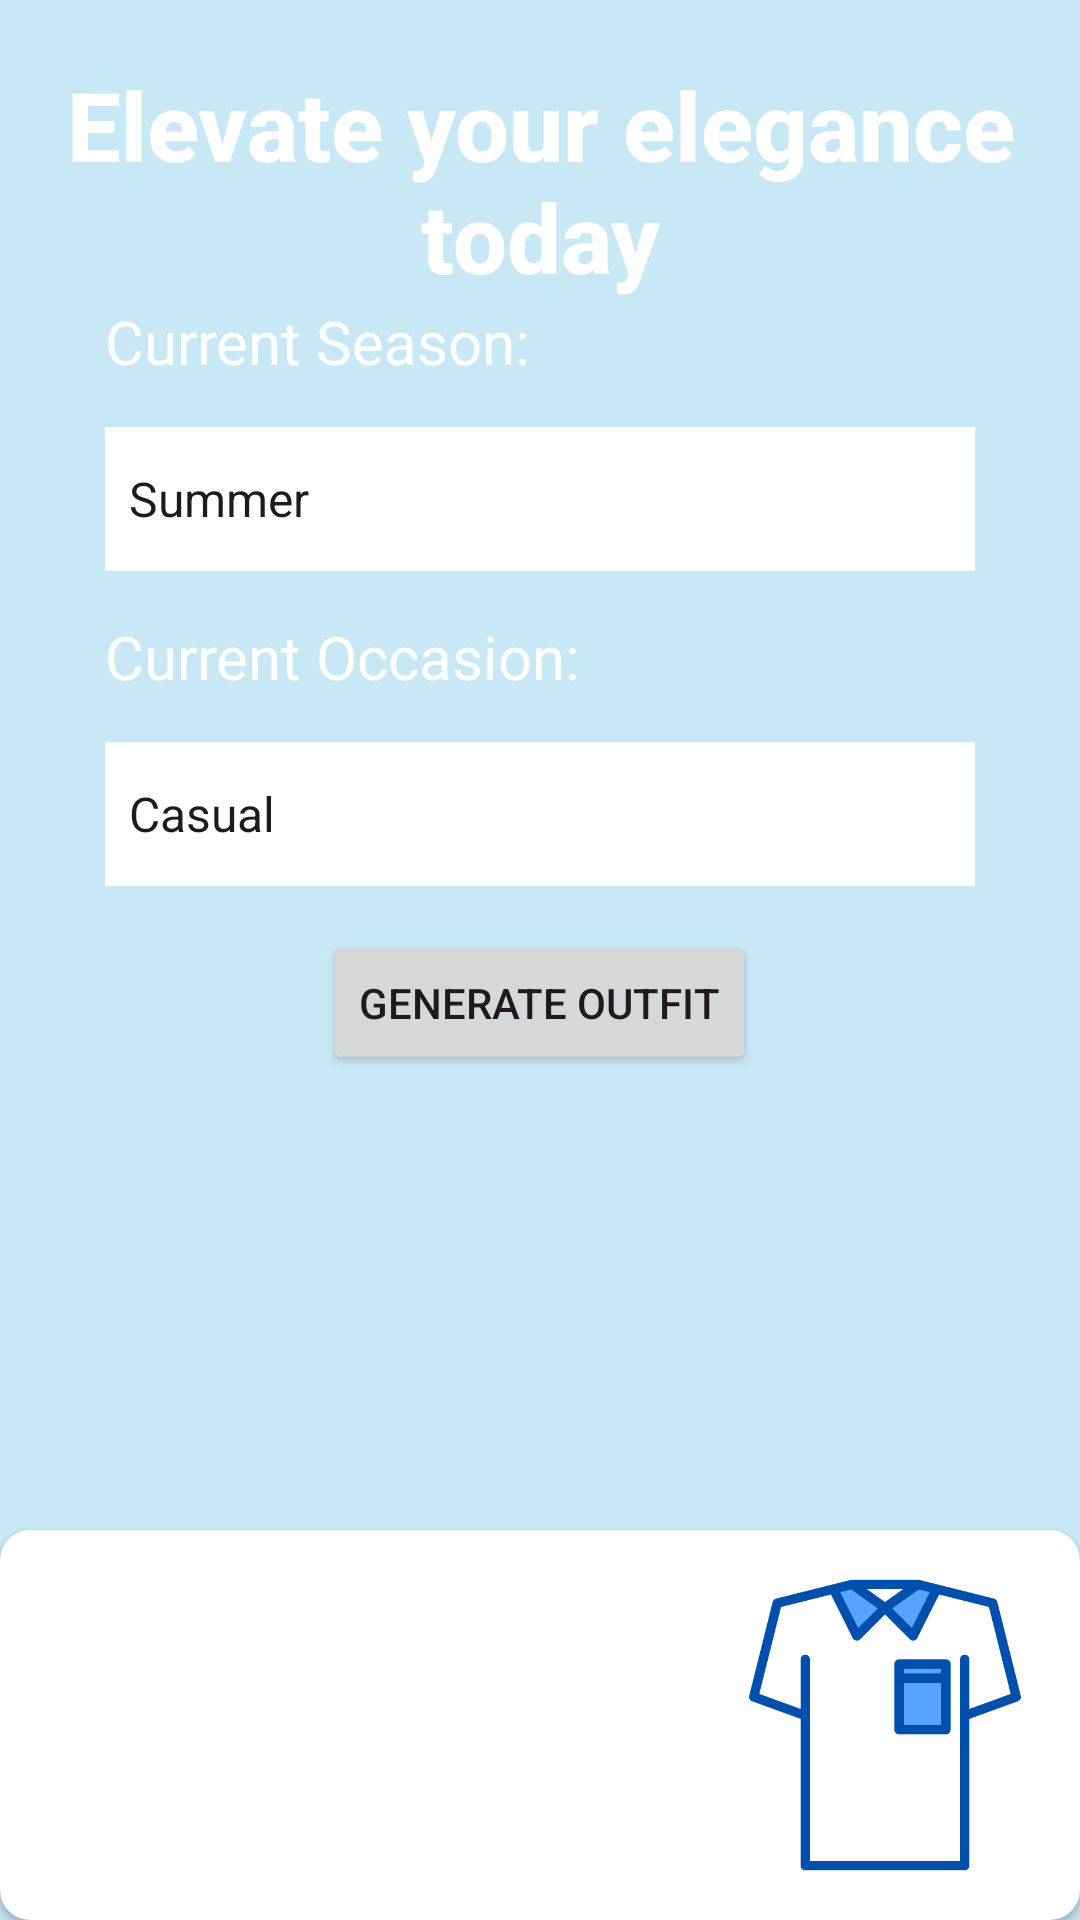

Icon click points for this 1080px×1920px phone screenshot, format point (x, y):
polo shirt: point (885, 1725)
